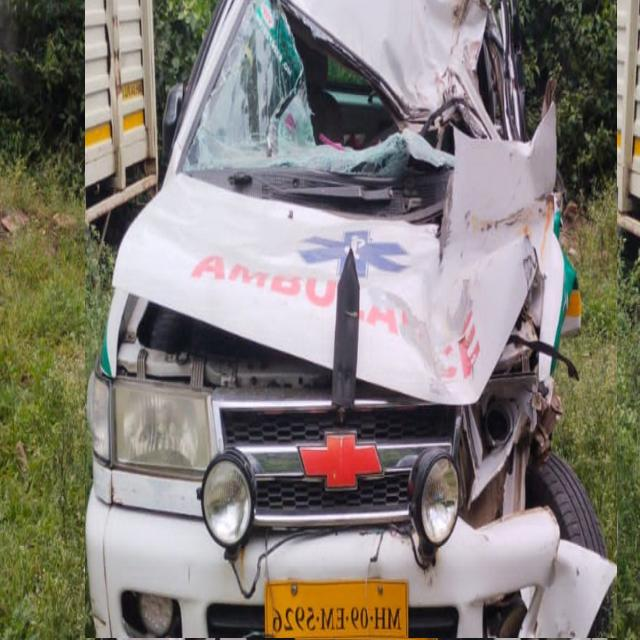accident: (86, 0, 617, 638)
